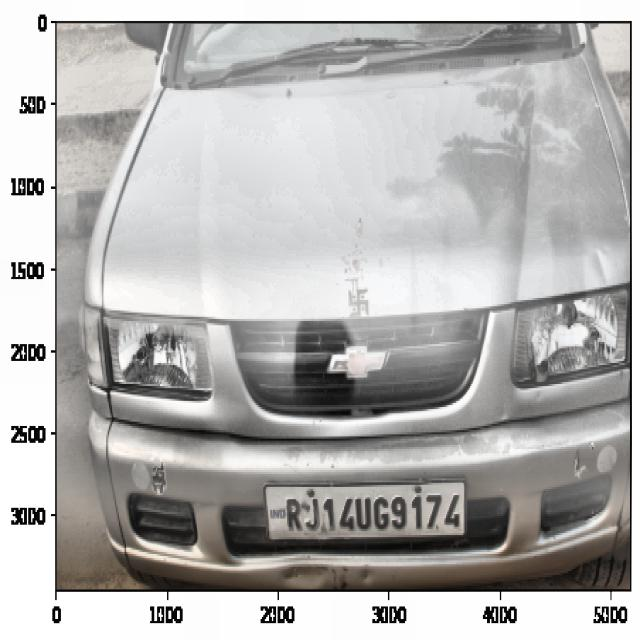license_plate: (275, 486, 465, 537)
